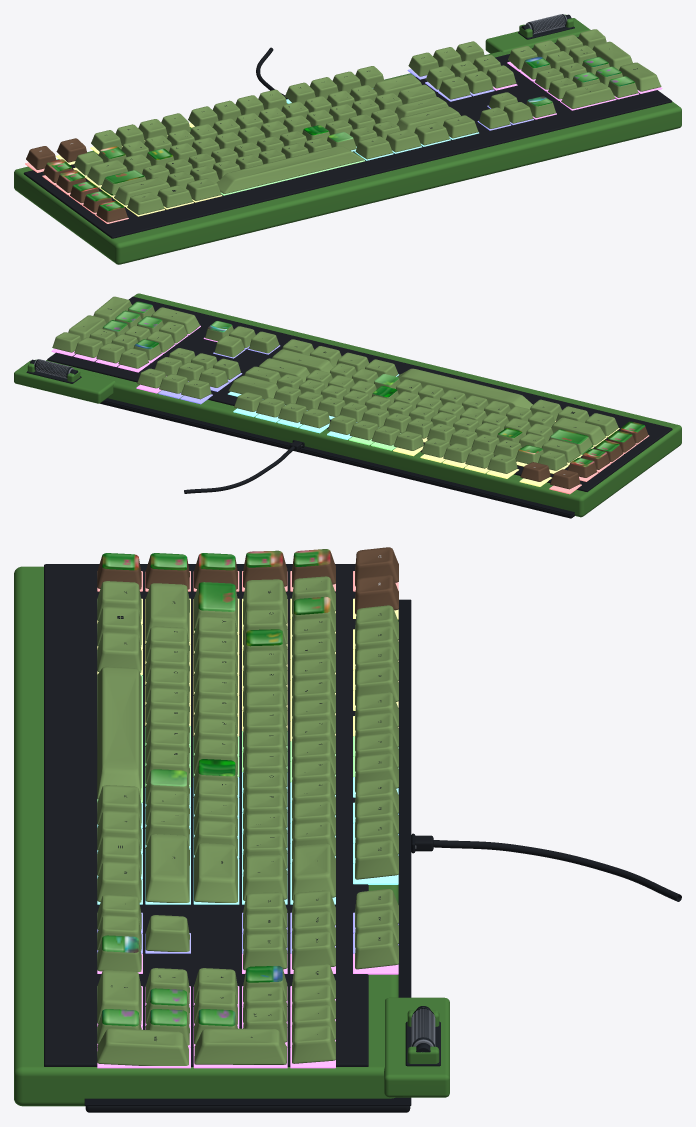
3 views of the same model, one above another, from view 1: azimuth 30°, elevation 25°; view 2: azimuth 150°, elevation 25°; view 3: azimuth 270°, elevation 25° (orthographic). The views are drawn at different scales.
Parts seen in each view (by area): view 1: Housing, Switch plate, Key 056 | Space, Controls | Integrated rear bridge, Key 102 | 0, Key 052 | Shift, Key 041 | Shift, Key 101 | Enter, Key 100 | +, Key 040 | Enter, Key 013 | Backspace, Key 053 | Ctrl (+45 smaller); view 2: Housing, Switch plate, Refined | Case separation, Refined | Molded lower shell, Controls | Integrated rear bridge, Key 056 | Space, Key 013 | Backspace, Key 052 | Shift, Key 041 | Shift, Key 102 | 0, Key 040 | Enter, Key 101 | Enter (+61 smaller); view 3: Switch plate, Housing, Refined | Case separation, Key 056 | Space, Controls | Integrated rear bridge, Key 100 | +, Key 101 | Enter, Key 052 | Shift, Key 040 | Enter, Refined | Molded lower shell, Refined | Braided cable, Key 013 | Backspace (+104 smaller).
Part boxes in pixels (x1=…): Housing: x1=14, y1=34, x2=681, y2=264; Switch plate: x1=23, y1=37, x2=672, y2=238; Key 056 | Space: x1=217, y1=146, x2=364, y2=193; Controls | Integrated rear bridge: x1=485, y1=18, x2=590, y2=53; Key 102 | 0: x1=561, y1=82, x2=615, y2=108; Key 052 | Shift: x1=396, y1=106, x2=460, y2=132; Key 041 | Shift: x1=114, y1=177, x2=170, y2=205; Key 101 | Enter: x1=619, y1=62, x2=661, y2=91; Key 100 | +: x1=592, y1=41, x2=632, y2=69; Key 040 | Enter: x1=395, y1=96, x2=448, y2=119; Key 013 | Backspace: x1=373, y1=74, x2=421, y2=96; Key 053 | Ctrl: x1=127, y1=192, x2=164, y2=214; Housing: x1=46, y1=293, x2=681, y2=517; Switch plate: x1=47, y1=296, x2=672, y2=491; Refined | Case separation: x1=104, y1=398, x2=574, y2=515; Refined | Molded lower shell: x1=100, y1=401, x2=574, y2=518; Controls | Integrated rear bridge: x1=14, y1=360, x2=115, y2=403; Key 056 | Space: x1=397, y1=368, x2=532, y2=409; Key 013 | Backspace: x1=228, y1=375, x2=278, y2=399; Key 052 | Shift: x1=272, y1=349, x2=333, y2=373; Key 041 | Shift: x1=551, y1=417, x2=605, y2=445; Key 102 | 0: x1=151, y1=307, x2=200, y2=333; Key 040 | Enter: x1=259, y1=358, x2=309, y2=382; Key 101 | Enter: x1=93, y1=296, x2=131, y2=323; Switch plate: x1=44, y1=564, x2=368, y2=1066; Housing: x1=14, y1=566, x2=398, y2=1106; Refined | Case separation: x1=84, y1=599, x2=411, y2=1105; Key 056 | Space: x1=97, y1=666, x2=141, y2=799; Controls | Integrated rear bridge: x1=384, y1=997, x2=449, y2=1097; Key 100 | +: x1=194, y1=1028, x2=286, y2=1064; Key 101 | Enter: x1=97, y1=1028, x2=188, y2=1065; Key 052 | Shift: x1=145, y1=834, x2=189, y2=902; Key 040 | Enter: x1=194, y1=843, x2=237, y2=902; Refined | Molded lower shell: x1=85, y1=1106, x2=410, y2=1112; Refined | Braided cable: x1=433, y1=840, x2=681, y2=901; Key 013 | Backspace: x1=292, y1=843, x2=335, y2=900.
Bounding box in the file's own units: 0.4806 × 0.0315 × 0.2637.
Materials: 24 (1 with a texture image).
